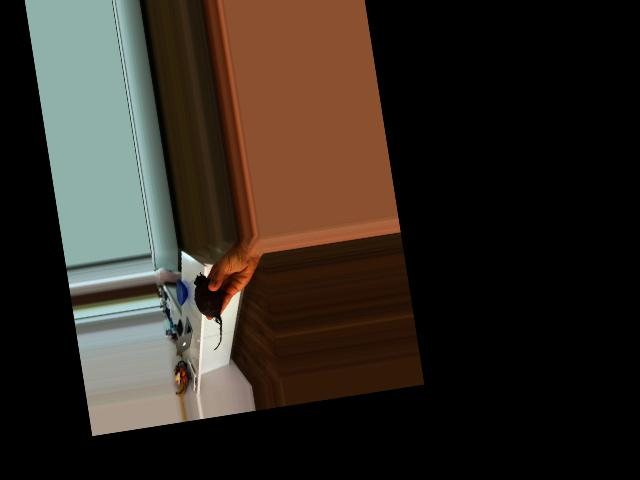beet: (191, 270, 230, 352)
